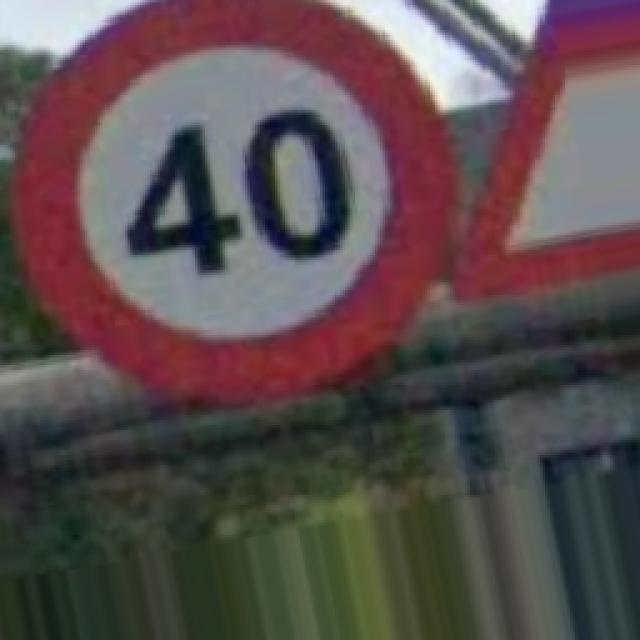Speed Limit -40-: (15, 0, 452, 400)
